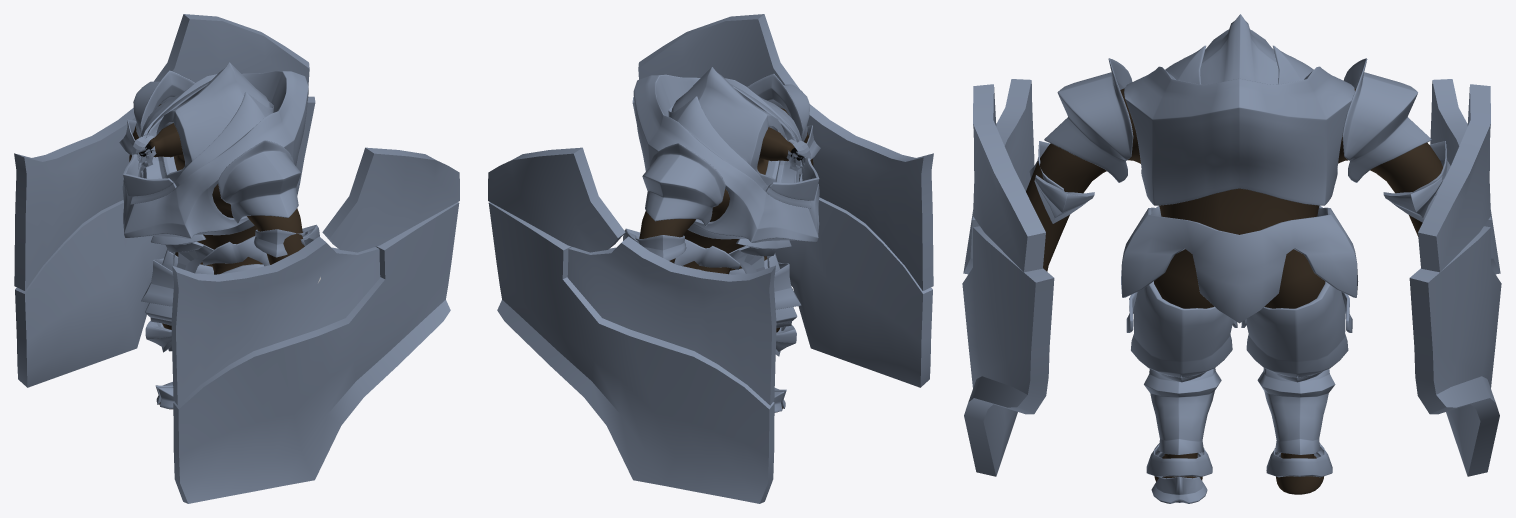
File: Pusher 02.fbx
3 renders of one model, left to right at view 1: azimuth 30°, elevation 25°; view 2: azimuth 150°, elevation 25°; view 3: azimuth 270°, elevation 25°, orthographic. The views are drawn at different scales.
Visible parts, largest first — view 1: Plane.008, Plane.034, Cube.043, Cube.024, LOW POLY SUIT.001, Cube.016, Cube.036, Cube.025, Cube.039, Cube.037, Cube.049, Cube.033; view 2: Plane.034, Plane.008, Cube.043, Cube.016, LOW POLY SUIT.001, Cube.024, Cube.036, Cube.025, Cube.050, Cube.032, Cube.028; view 3: Cube.043, Plane.008, Plane.034, LOW POLY SUIT.001, Cube.025, Cube.028, Cube.037, Cube.024, Cube.016, Cube.029, Cube.026, Cube.040 (+4 smaller).
Boxes of the visible parts, x1=… form: Plane.008: x1=171, y1=147, x2=459, y2=503; Plane.034: x1=14, y1=14, x2=315, y2=387; Cube.043: x1=122, y1=62, x2=308, y2=238; Cube.024: x1=217, y1=140, x2=300, y2=223; LOW POLY SUIT.001: x1=129, y1=104, x2=304, y2=409; Cube.016: x1=133, y1=70, x2=194, y2=137; Cube.036: x1=123, y1=153, x2=176, y2=204; Cube.025: x1=202, y1=235, x2=269, y2=266; Cube.039: x1=141, y1=258, x2=173, y2=306; Cube.037: x1=145, y1=249, x2=213, y2=325; Cube.049: x1=254, y1=229, x2=305, y2=257; Cube.033: x1=145, y1=321, x2=171, y2=352; Plane.034: x1=488, y1=147, x2=776, y2=503; Plane.008: x1=632, y1=14, x2=933, y2=387; Cube.043: x1=633, y1=67, x2=819, y2=242; Cube.016: x1=642, y1=143, x2=725, y2=226; LOW POLY SUIT.001: x1=639, y1=108, x2=813, y2=408; Cube.024: x1=747, y1=73, x2=810, y2=141; Cube.036: x1=765, y1=158, x2=819, y2=208; Cube.025: x1=674, y1=239, x2=740, y2=269; Cube.050: x1=635, y1=235, x2=686, y2=260; Cube.032: x1=774, y1=262, x2=801, y2=309; Cube.028: x1=729, y1=253, x2=797, y2=328; Cube.043: x1=1124, y1=14, x2=1354, y2=205; Plane.008: x1=962, y1=79, x2=1054, y2=476; Plane.034: x1=1409, y1=79, x2=1501, y2=476; LOW POLY SUIT.001: x1=1026, y1=88, x2=1442, y2=494; Cube.025: x1=1121, y1=205, x2=1358, y2=323; Cube.028: x1=1131, y1=281, x2=1232, y2=382; Cube.037: x1=1246, y1=281, x2=1348, y2=382; Cube.024: x1=1044, y1=58, x2=1133, y2=182; Cube.016: x1=1342, y1=58, x2=1431, y2=182; Cube.029: x1=1257, y1=368, x2=1335, y2=454; Cube.026: x1=1144, y1=368, x2=1221, y2=454; Cube.040: x1=1266, y1=444, x2=1332, y2=477.
Bounding box in the file's own units: 111 × 127 × 131.
